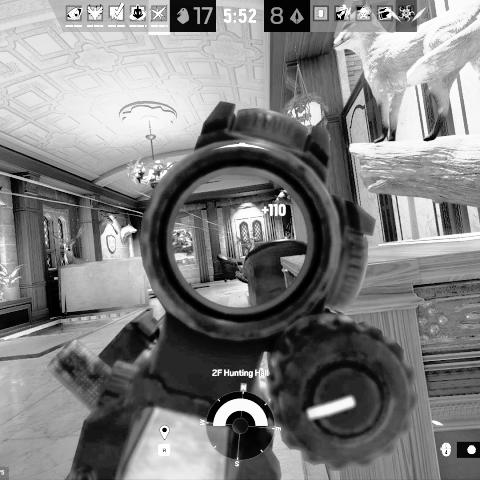Character: (234, 268, 248, 284)
